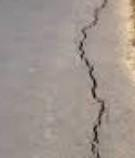crack: (88, 96, 107, 158), (78, 51, 98, 98), (77, 25, 91, 52), (91, 6, 102, 29), (100, 0, 108, 9)
